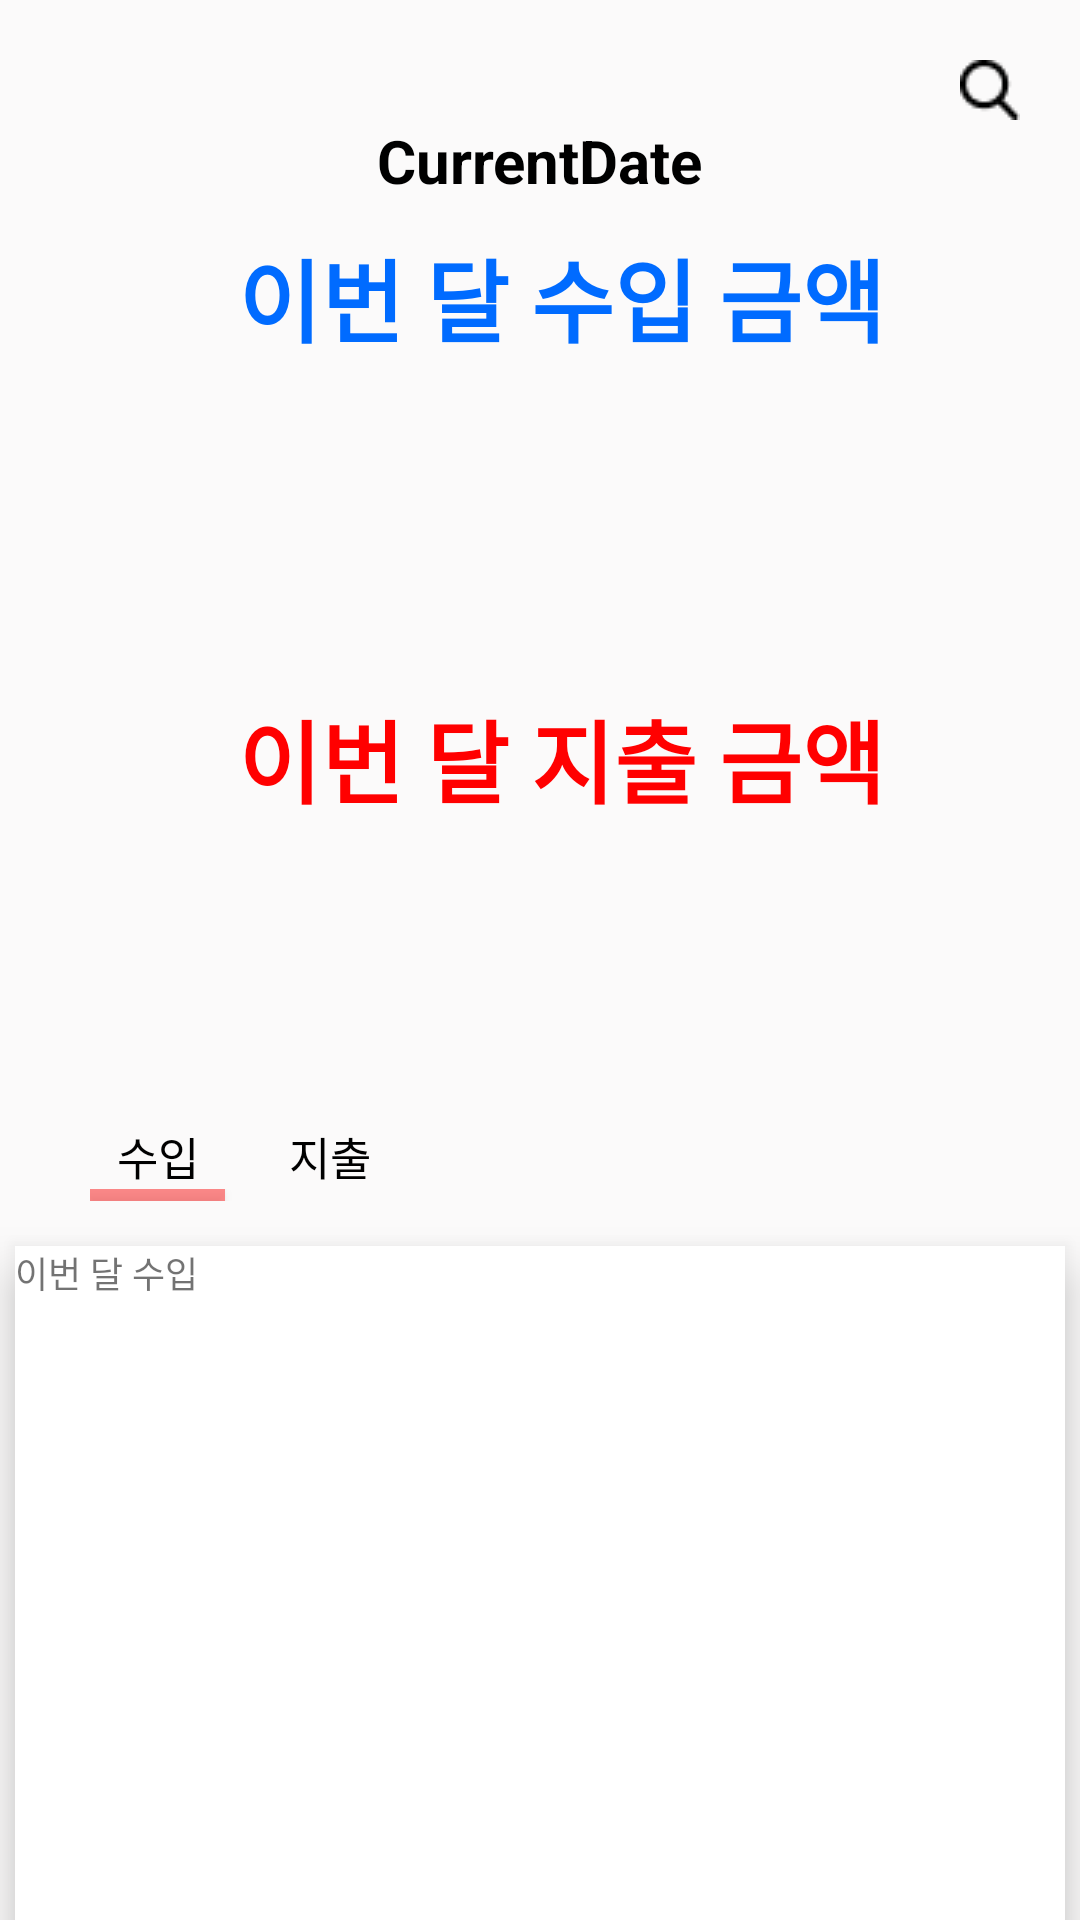

Named icons in this screenshot (1080px x 1920px) and their centers, point (x, y):
search: point (990, 90)
